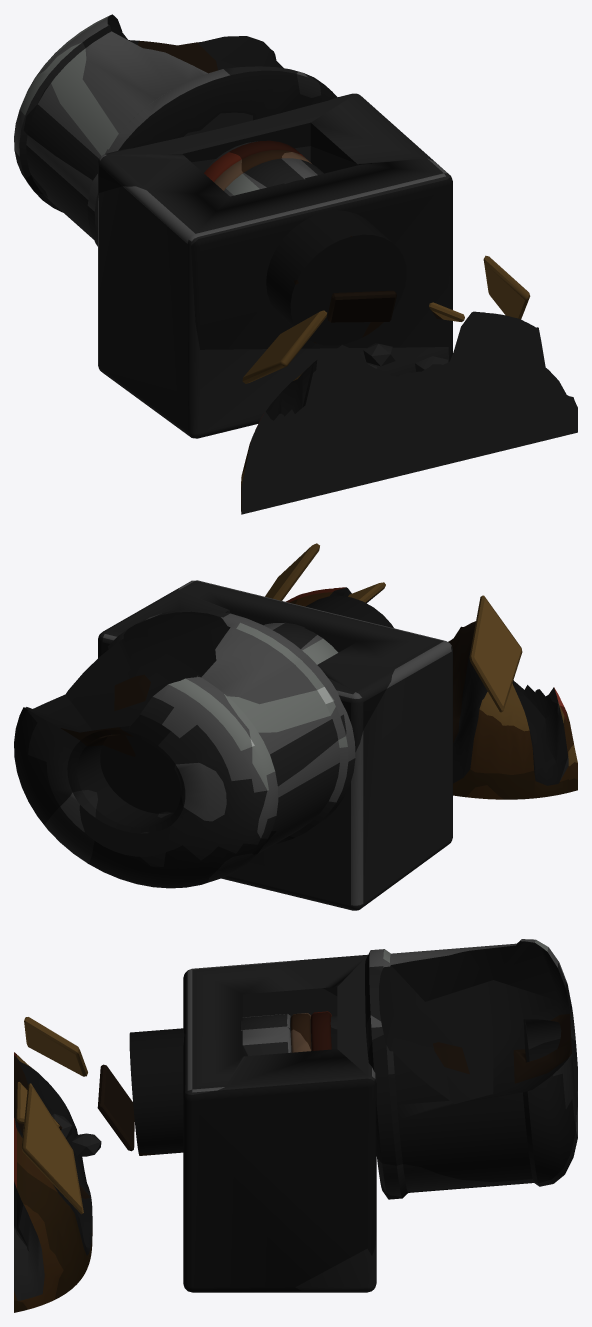
File: dome_cannon_barrel_wreck.glb
3 renders of one model, top to bottom at view 1: azimuth 30°, elevation 25°; view 2: azimuth 150°, elevation 25°; view 3: azimuth 270°, elevation 25°, orthographic.
Visible parts, largest first — view 1: dome_cannon_barrel_wreck; view 2: dome_cannon_barrel_wreck; view 3: dome_cannon_barrel_wreck.
Boxes of the visible parts, <box> form: dome_cannon_barrel_wreck: <box>14,14,577,514</box>; dome_cannon_barrel_wreck: <box>14,543,577,910</box>; dome_cannon_barrel_wreck: <box>14,939,577,1312</box>.
Size of the model in its own units: 19.1 by 14.8 by 28.
